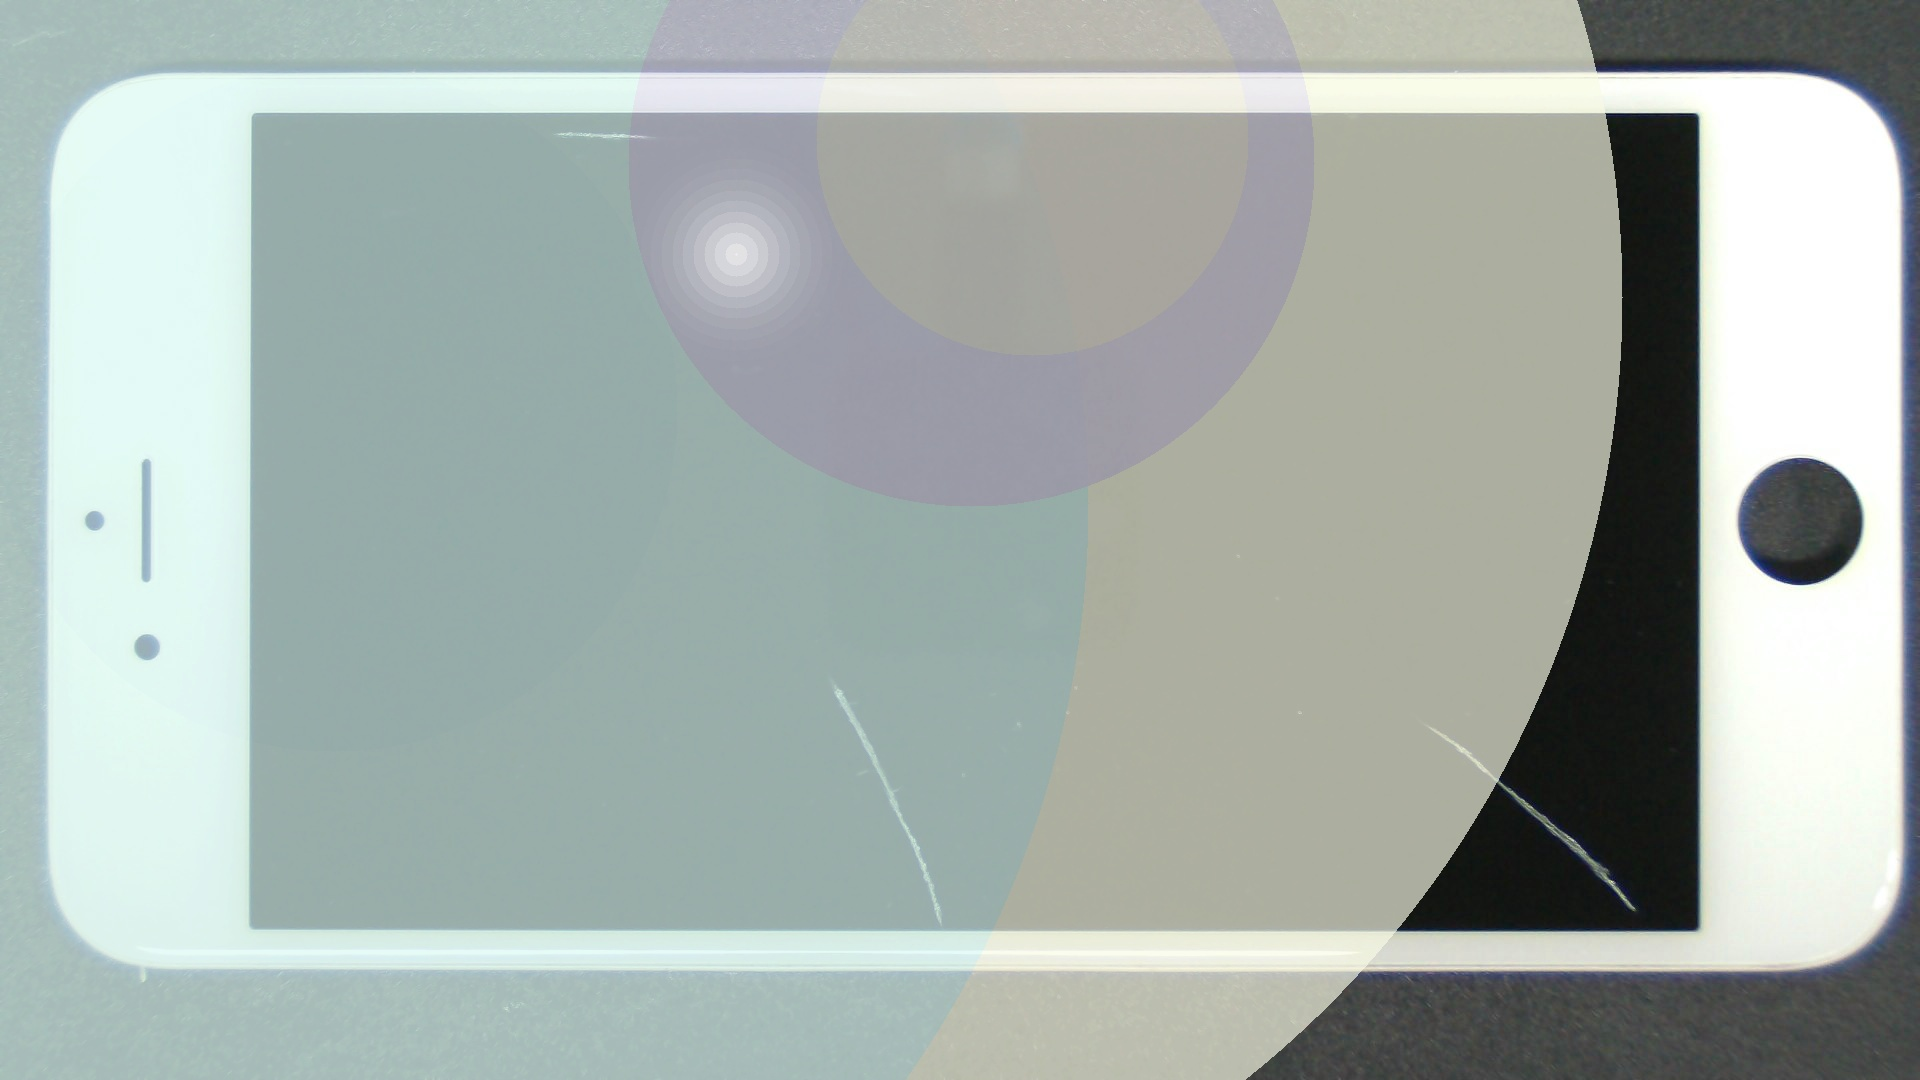oil: (712, 361, 1920, 1080), (434, 384, 1302, 1080), (414, 338, 1242, 1014), (285, 65, 853, 195)
